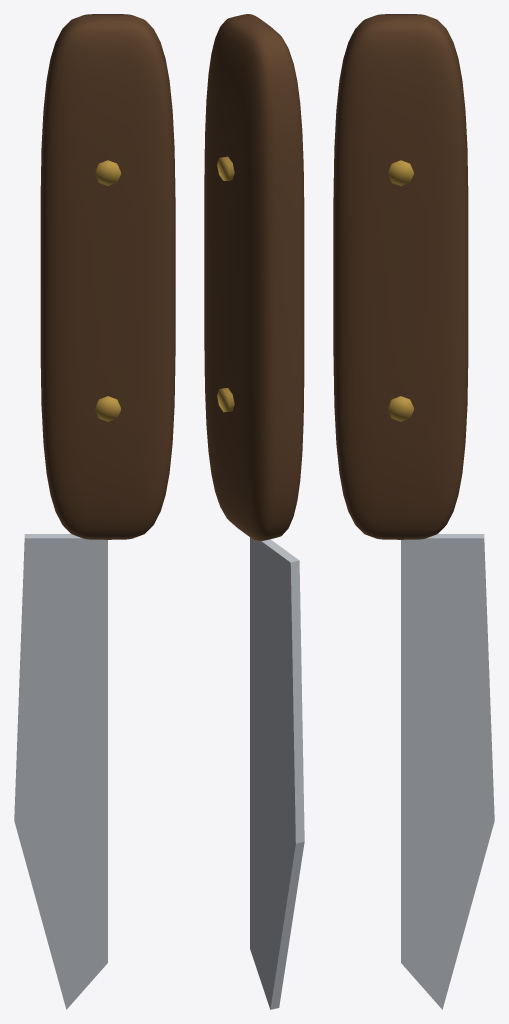
Rendered from knife.glb.
3 views of the same model, side by side, from view 1: azimuth 90°, elevation 25°; view 2: azimuth 210°, elevation 25°; view 3: azimuth 270°, elevation 25° (orthographic). The views are drawn at different scales.
Parts seen in each view (by area): view 1: Handle, Blade, Rivets; view 2: Handle, Blade, Rivets; view 3: Handle, Blade, Rivets.
Part boxes in pixels (x1,y1,x2,y2): Handle: [40, 14, 175, 539]; Blade: [14, 534, 107, 1009]; Rivets: [95, 160, 120, 421]; Handle: [204, 14, 304, 540]; Blade: [250, 537, 304, 1009]; Rivets: [217, 156, 234, 412]; Handle: [333, 14, 468, 539]; Blade: [401, 534, 494, 1009]; Rivets: [388, 160, 413, 421].
Size of the model in its own units: 0.014 by 0.21 by 0.031.
